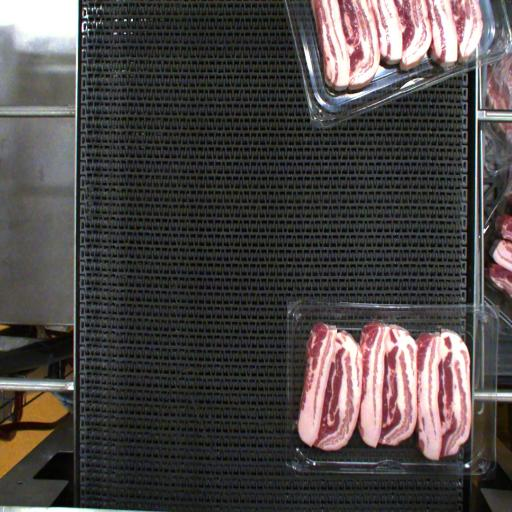packaging-error: (366, 316, 394, 326)
